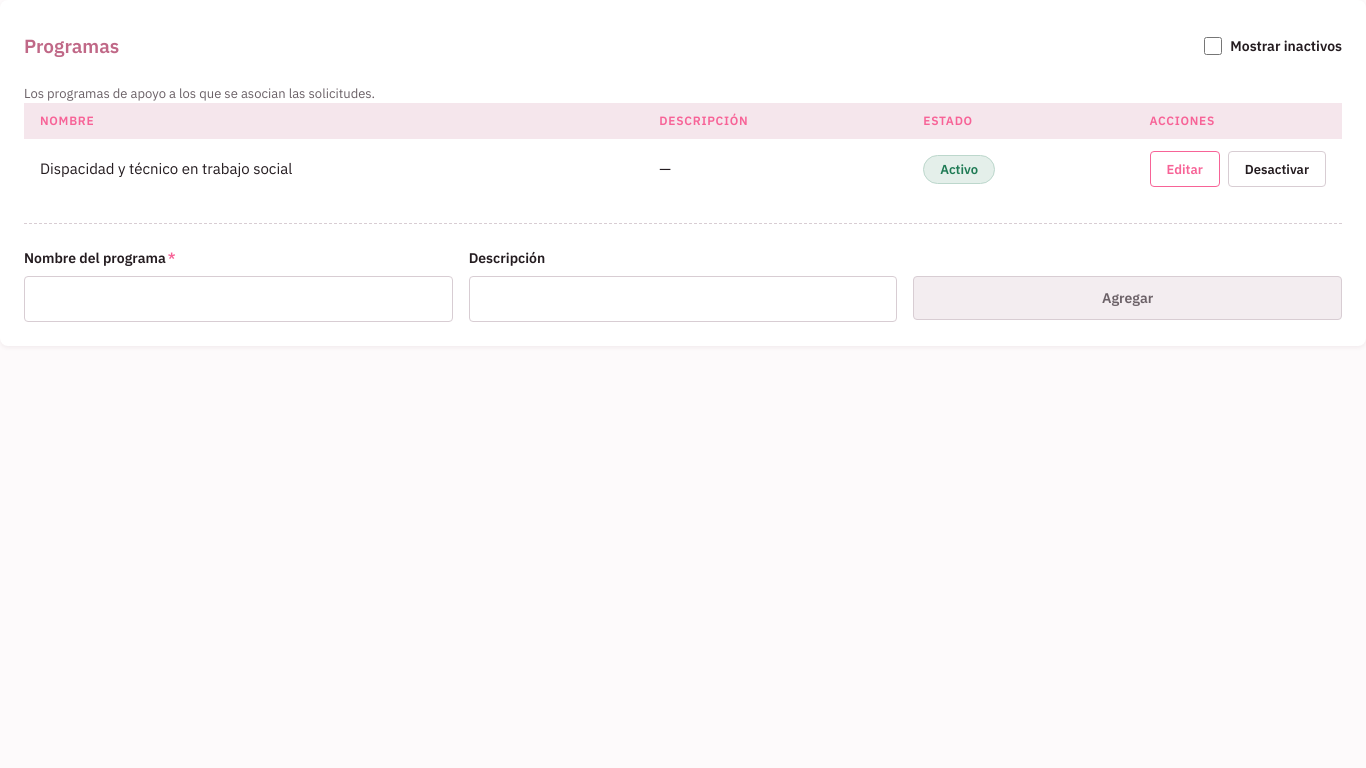
Test: editar un registro del catálogo › corrige el nombre y conserva los campos propios
Click the button "Editar" at (1185, 169), box [1150,151,1220,187]
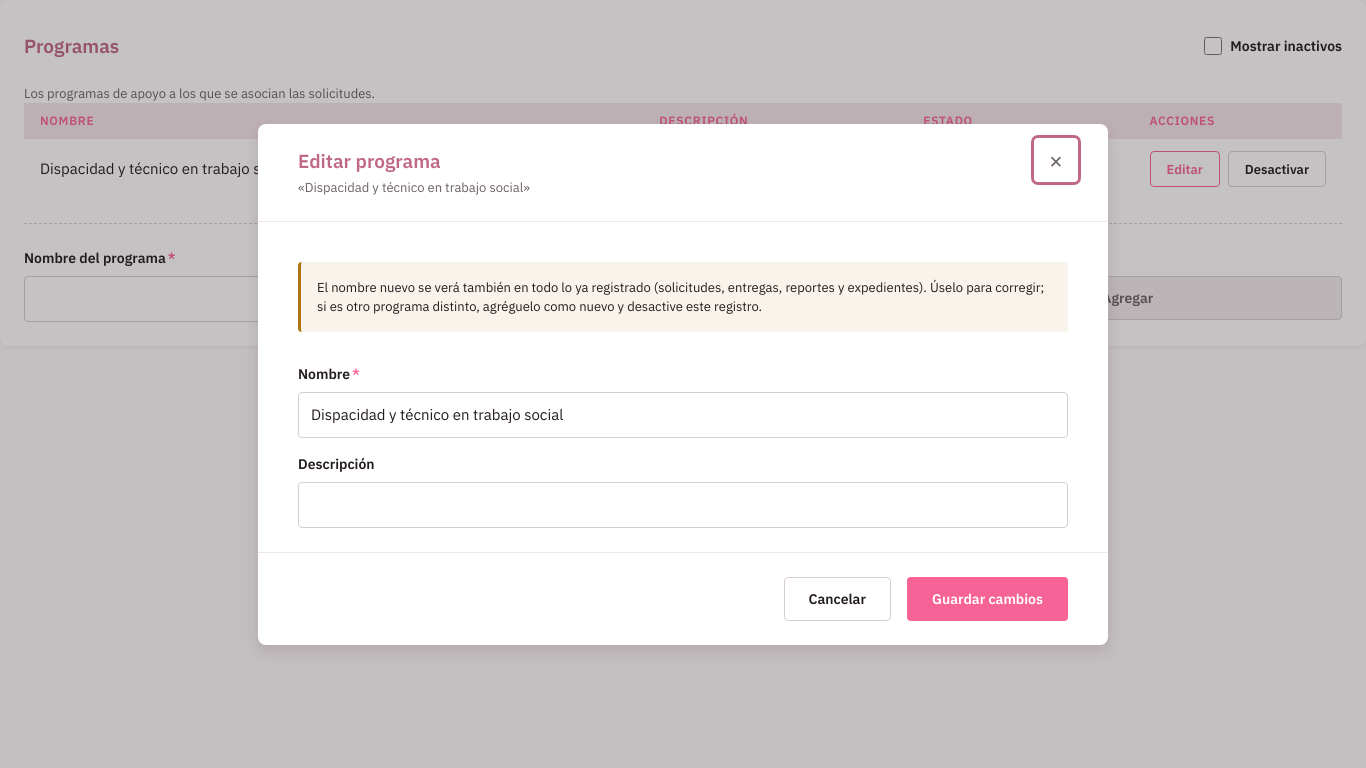
Check: the field labelled "Nombre*" holds "Dispacidad y técnico en trabajo social"
Replace the text in the field labelled "Nombre*" with "Discapacidad y técnico en trabajo social" at (683, 414), box [298,392,1068,438]
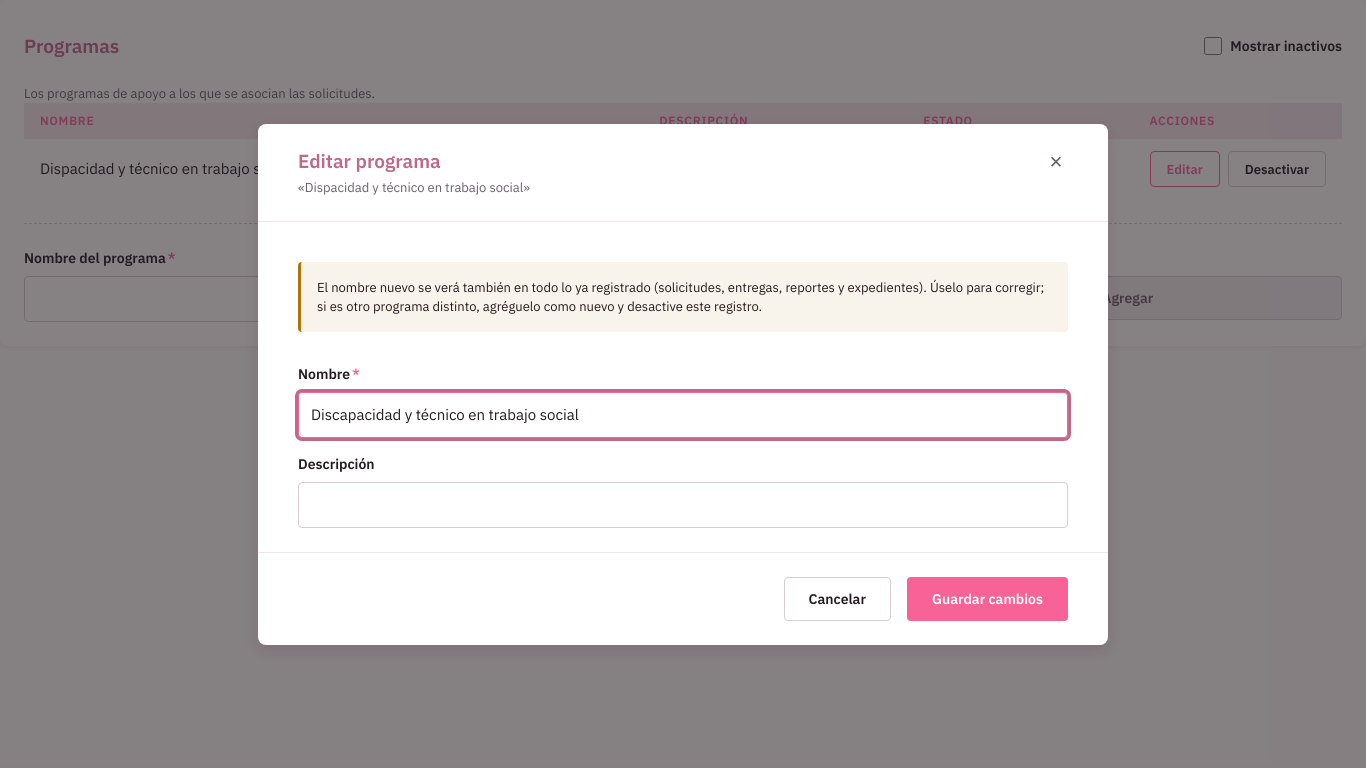
Click the button "Guardar cambios" at (987, 598), box [907,576,1068,620]
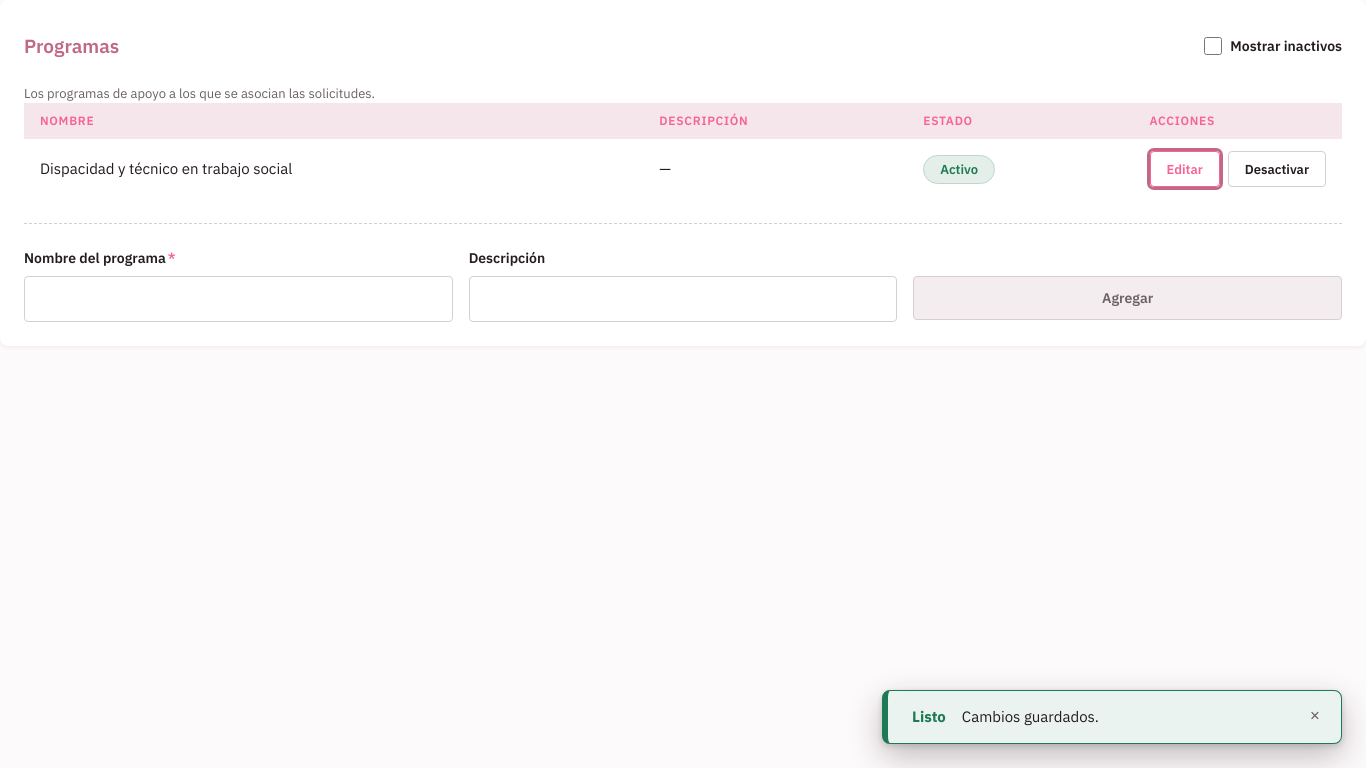
Check: the text "Cambios guardados." is shown, box [962,707,1099,726]
